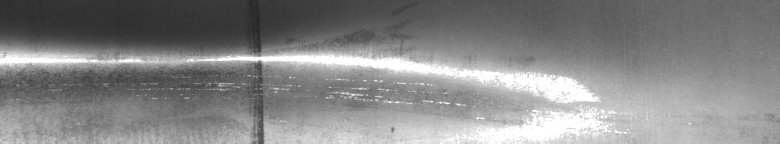ke: (4, 29, 629, 136)
